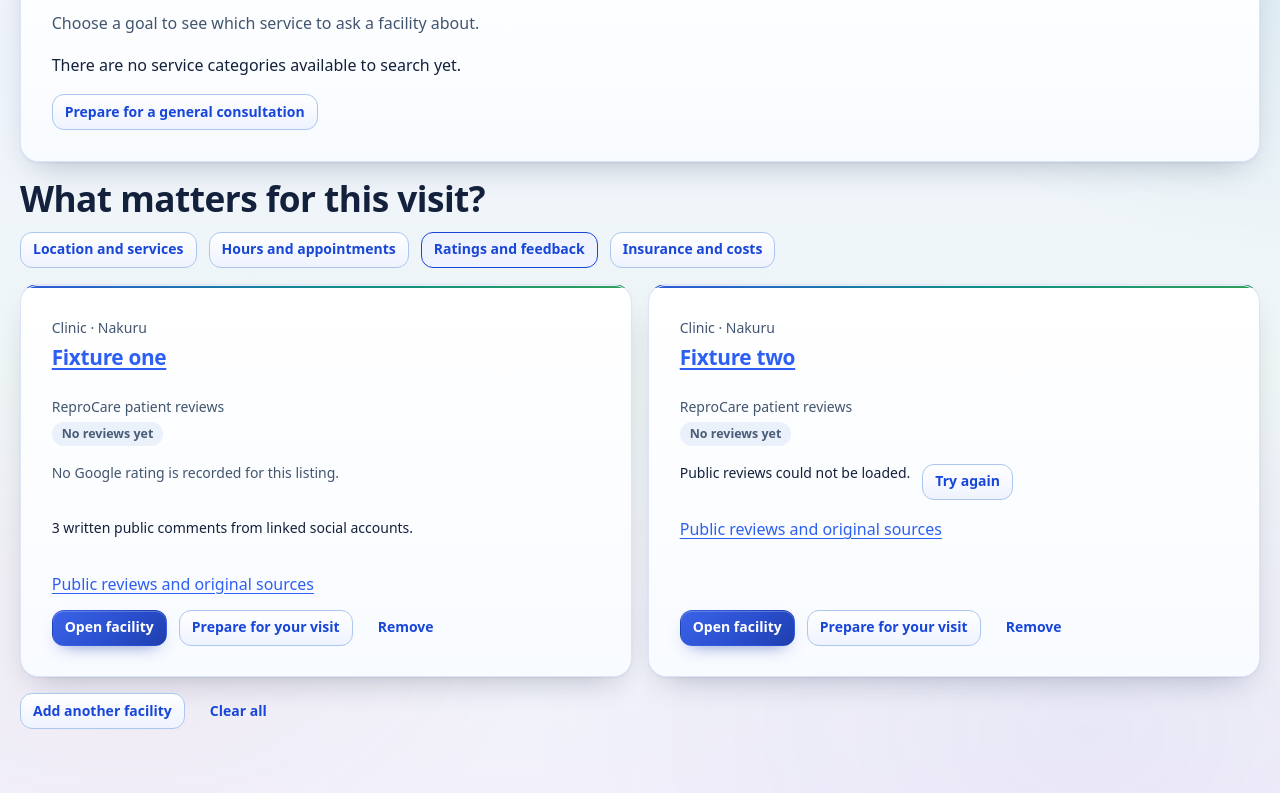
shows a per-facility error and retry when public reviews fail, instead of implying no rating
(page scrolled)
Expected: the text "3 written public comments from linked social accounts." is shown, [52,517,413,540]
Expected: the text "No Google rating is recorded for this listing." is shown, [52,462,339,485]
Click the button "Try again": (968, 482) [922,464,1013,500]
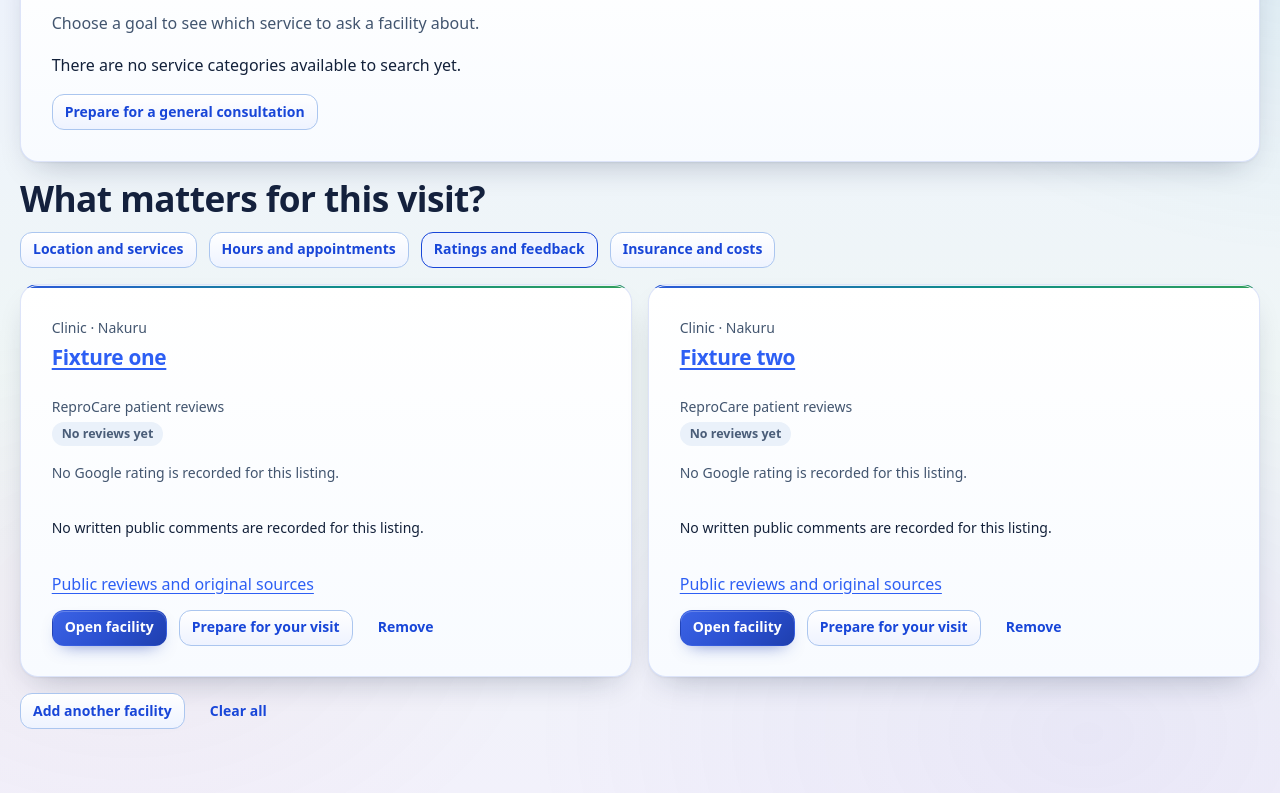
Now the text "No written public comments are recorded for this listing." is shown 2 times, box [52,517,424,540]; [680,517,1052,540]
Now the text "Public reviews could not be loaded." is gone
